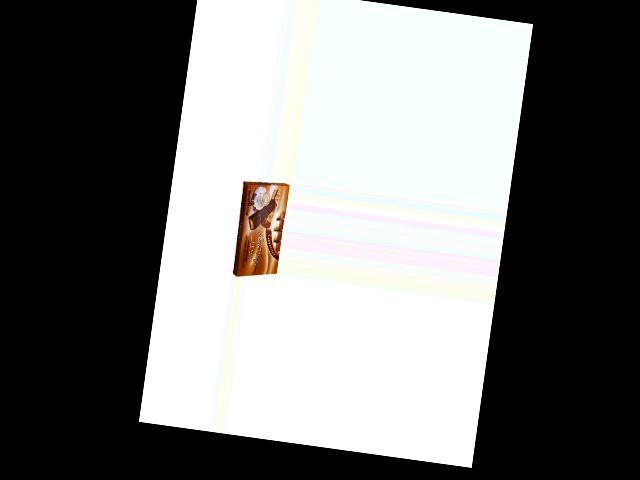chocolate: (230, 177, 290, 283)
